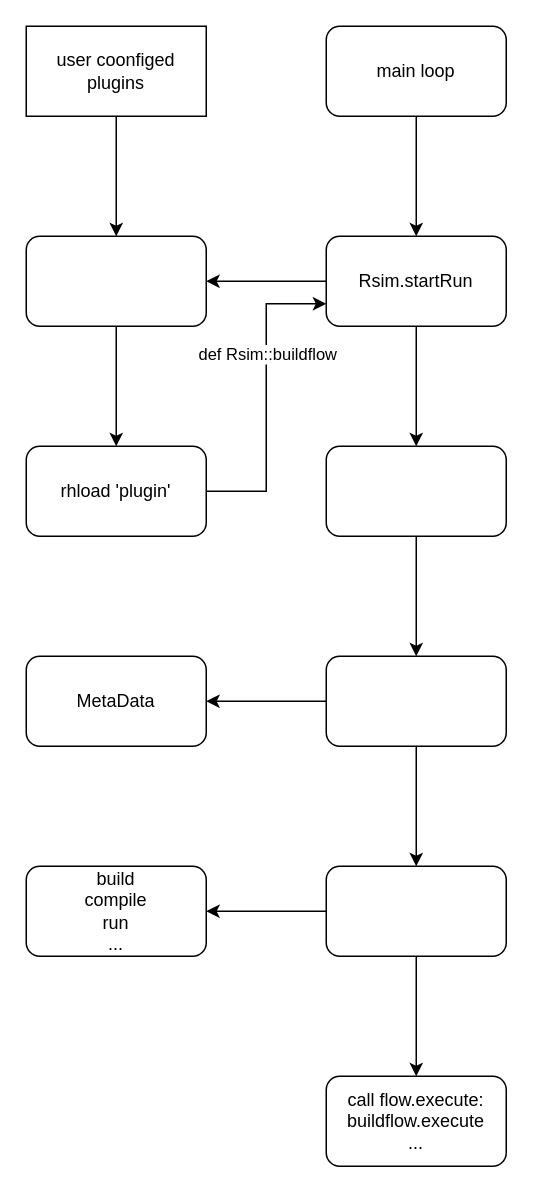
Some shapes in this 533 by 1193 pixel diagram are drawn without their labels. The shapes that lost their labels are listed below. From the top down, each one's box as (x1, y1, x2, y2) in pixels, then its label:
(25, 235, 206, 326): load plugin
(325, 445, 506, 536): load user nodes
(325, 655, 506, 746): elaborate
(325, 865, 506, 956): arrange user cmd
